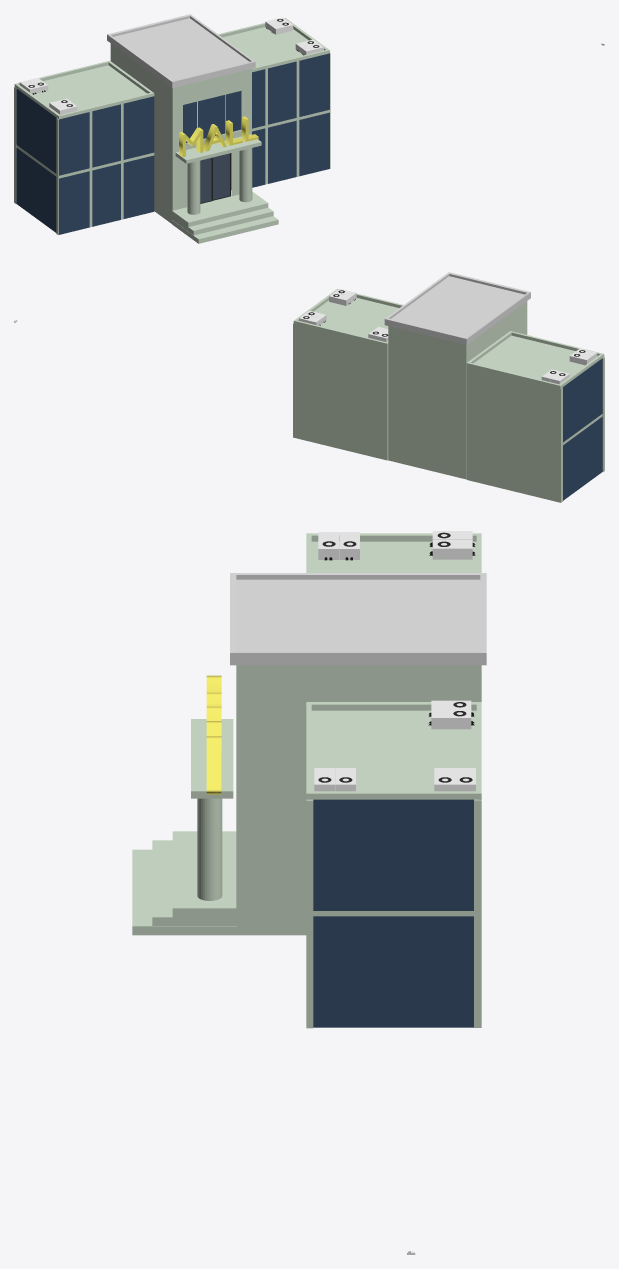
The model's file is envirnment3.fbx.
3 renders of one model, top to bottom at view 1: azimuth 30°, elevation 25°; view 2: azimuth 150°, elevation 25°; view 3: azimuth 270°, elevation 25°, orthographic. The views are drawn at different scales.
Visible parts, largest first — view 1: Cube.047; view 2: Cube.047; view 3: Cube.047.
Boxes of the visible parts, <box> form: Cube.047: <box>14,14,330,243</box>; Cube.047: <box>293,272,604,502</box>; Cube.047: <box>132,531,486,1028</box>.
Bounding box in the file's own units: 15568 × 3749 × 4234.
